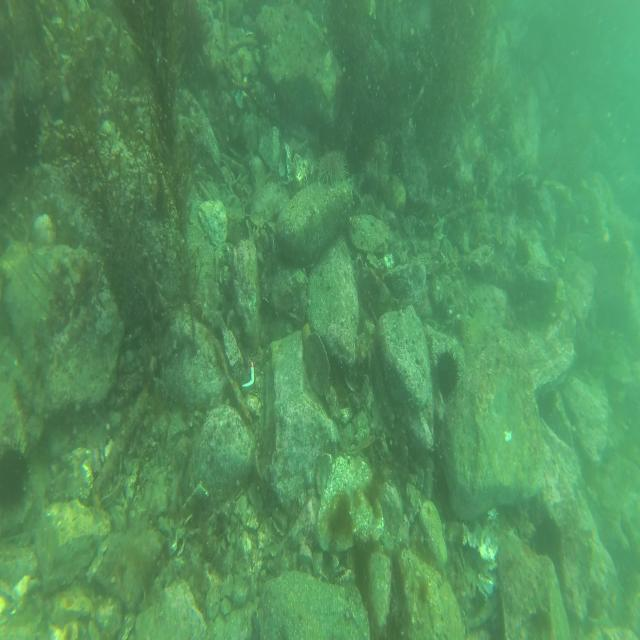echinus: (11, 96, 44, 154), (434, 344, 464, 401), (1, 442, 27, 502), (317, 153, 345, 183)
